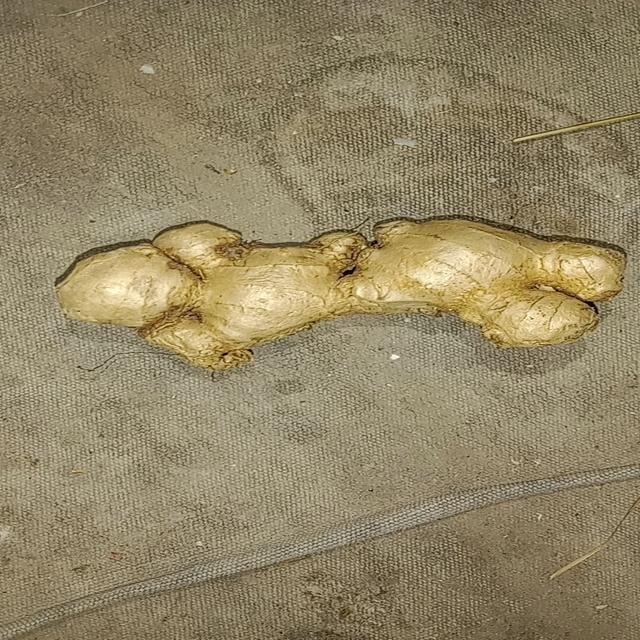ginger: (56, 227, 628, 371)
